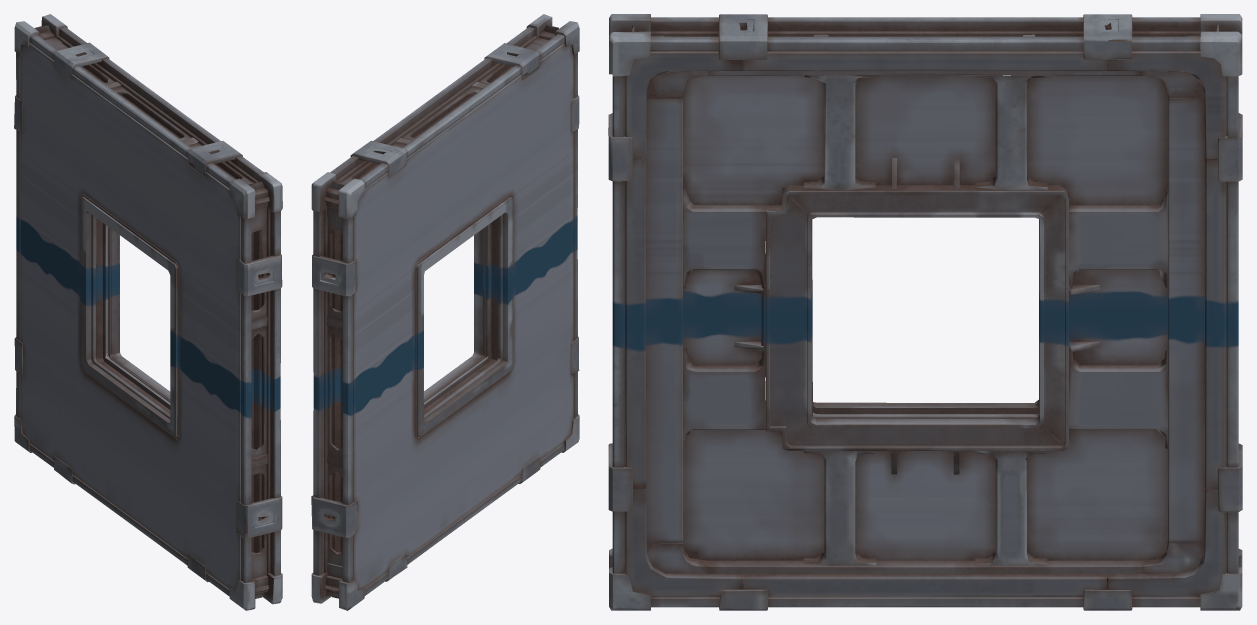
File: Window_Metal_BP_C.glb
3 renders of one model, left to right at view 1: azimuth 30°, elevation 25°; view 2: azimuth 150°, elevation 25°; view 3: azimuth 270°, elevation 25°, orthographic. The views are drawn at different scales.
Visible parts, largest first — view 1: SM_Metal_WallWindowframe; view 2: SM_Metal_WallWindowframe; view 3: SM_Metal_WallWindowframe.
Part boxes in pixels (x1=…): SM_Metal_WallWindowframe: x1=14, y1=14, x2=282, y2=610; SM_Metal_WallWindowframe: x1=311, y1=14, x2=579, y2=610; SM_Metal_WallWindowframe: x1=608, y1=14, x2=1242, y2=610.
Bounding box in the file's own units: 0.3054 × 3.04 × 3.04.
Materials: 1 (1 with a texture image).
